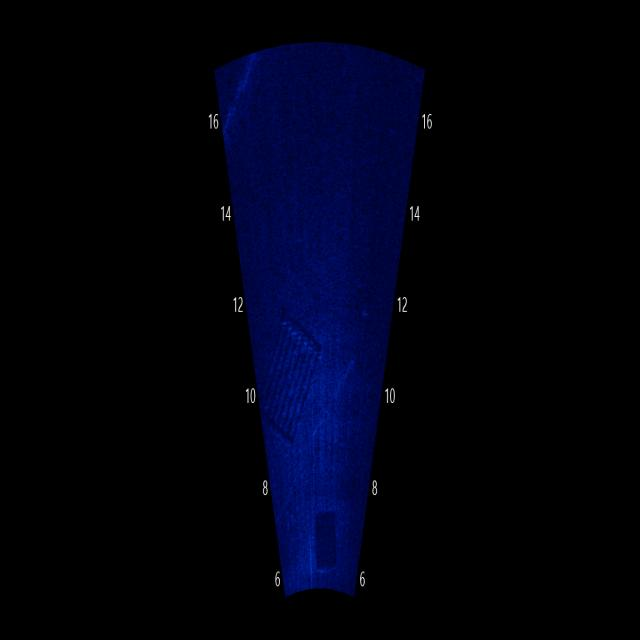square: (254, 289, 336, 461), (307, 506, 344, 584)
